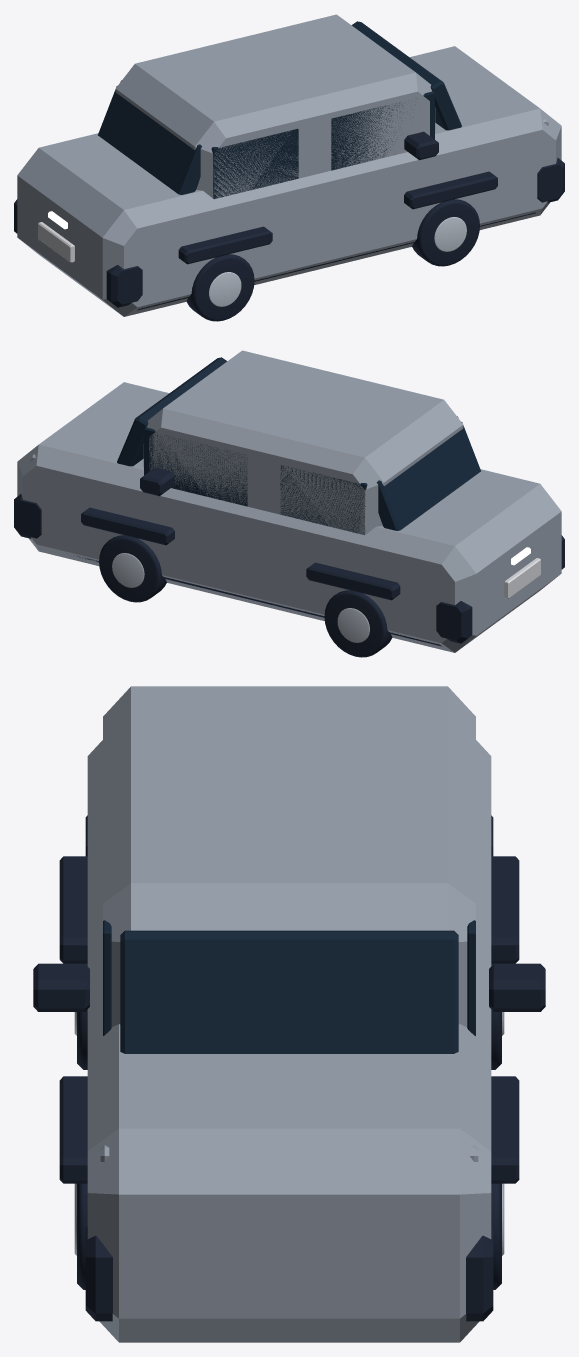
Rendered from spire_dress_car.glb.
3 views of the same model, one above another, from view 1: azimuth 30°, elevation 25°; view 2: azimuth 150°, elevation 25°; view 3: azimuth 270°, elevation 25° (orthographic). The views are drawn at different scales.
Parts seen in each view (by area): view 1: car_body, car_cabin, car_rear_glass, car_glass_r1, car_glass_f1, car_tyre1-1.2499999999999998, car_tyre11.15, car_screen, car_arch1-1.2499999999999998, car_arch11.15, car_bumper_r, car_bumper_f (+5 smaller); view 2: car_body, car_cabin, car_rear_glass, car_glass_f-1, car_glass_r-1, car_tyre-1-1.2499999999999998, car_tyre-11.15, car_screen, car_arch-1-1.2499999999999998, car_arch-11.15, car_bumper_r, car_bumper_f (+5 smaller); view 3: car_body, car_cabin, car_screen, car_bumper_f, car_arch-11.15, car_arch-1-1.2499999999999998, car_arch11.15, car_arch1-1.2499999999999998, car_mirror-1, car_mirror1, car_tyre-11.15, car_tyre11.15 (+2 smaller).
Part boxes in pixels (x1=…): car_body: x1=17, y1=46, x2=561, y2=316; car_cabin: x1=115, y1=14, x2=435, y2=198; car_rear_glass: x1=98, y1=86, x2=202, y2=194; car_glass_r1: x1=211, y1=128, x2=298, y2=198; car_glass_f1: x1=331, y1=91, x2=434, y2=170; car_tyre1-1.2499999999999998: x1=186, y1=254, x2=254, y2=321; car_tyre11.15: x1=412, y1=199, x2=479, y2=266; car_screen: x1=351, y1=21, x2=461, y2=130; car_arch1-1.2499999999999998: x1=178, y1=226, x2=272, y2=264; car_arch11.15: x1=404, y1=171, x2=497, y2=209; car_bumper_r: x1=14, y1=199, x2=142, y2=307; car_bumper_f: x1=537, y1=158, x2=564, y2=202; car_body: x1=17, y1=382, x2=561, y2=652; car_cabin: x1=143, y1=350, x2=463, y2=535; car_rear_glass: x1=376, y1=422, x2=480, y2=530; car_glass_f-1: x1=144, y1=427, x2=247, y2=506; car_glass_r-1: x1=280, y1=465, x2=367, y2=534; car_tyre-1-1.2499999999999998: x1=324, y1=590, x2=392, y2=657; car_tyre-11.15: x1=99, y1=535, x2=166, y2=602; car_screen: x1=117, y1=357, x2=227, y2=466; car_arch-1-1.2499999999999998: x1=306, y1=562, x2=400, y2=600; car_arch-11.15: x1=81, y1=507, x2=174, y2=545; car_bumper_r: x1=436, y1=535, x2=564, y2=643; car_bumper_f: x1=14, y1=494, x2=41, y2=538; car_body: x1=87, y1=740, x2=491, y2=1342; car_cabin: x1=103, y1=686, x2=475, y2=1026; car_screen: x1=120, y1=930, x2=458, y2=1053; car_bumper_f: x1=85, y1=1226, x2=493, y2=1321; car_arch-11.15: x1=491, y1=1076, x2=519, y2=1183; car_arch-1-1.2499999999999998: x1=491, y1=856, x2=519, y2=963; car_arch11.15: x1=59, y1=1076, x2=87, y2=1183; car_arch1-1.2499999999999998: x1=59, y1=856, x2=87, y2=963; car_mirror-1: x1=489, y1=963, x2=545, y2=1011; car_mirror1: x1=33, y1=963, x2=89, y2=1011; car_tyre-11.15: x1=491, y1=1183, x2=501, y2=1289; car_tyre11.15: x1=77, y1=1183, x2=87, y2=1289.
Size of the model in its own units: 4.95 by 1.93 by 2.36.
